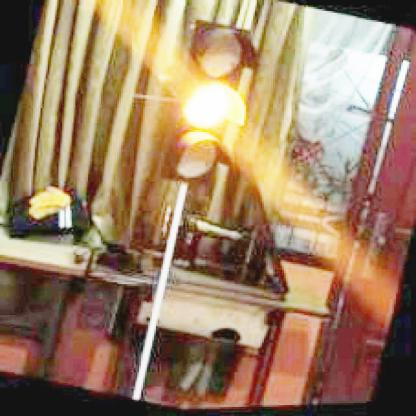Traffic Light -Yellow-: (157, 21, 264, 195)
